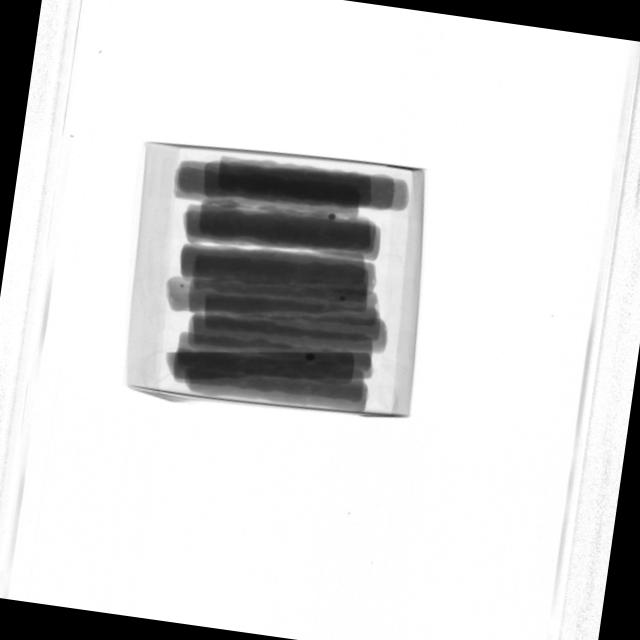ym: (305, 353, 318, 364), (328, 213, 337, 221), (339, 296, 347, 304), (179, 284, 185, 290)
